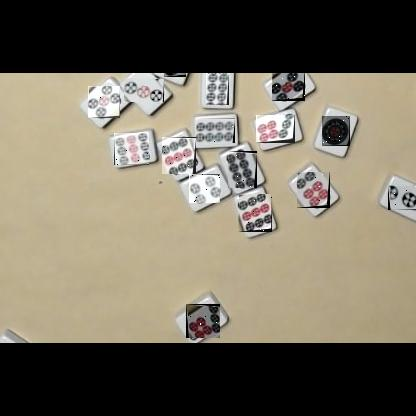1p: (322, 116, 350, 146)
2p: (388, 185, 416, 210), (164, 73, 186, 77)
3p: (124, 78, 164, 102)
4p: (189, 174, 220, 203)
5p: (88, 86, 120, 118), (272, 73, 305, 101)
6p: (297, 172, 330, 208)
7p: (186, 304, 220, 338), (256, 115, 295, 143)
8p: (228, 151, 257, 188), (196, 118, 235, 143), (206, 73, 229, 105)
9p: (238, 194, 272, 232), (162, 137, 196, 174), (114, 133, 149, 165)
